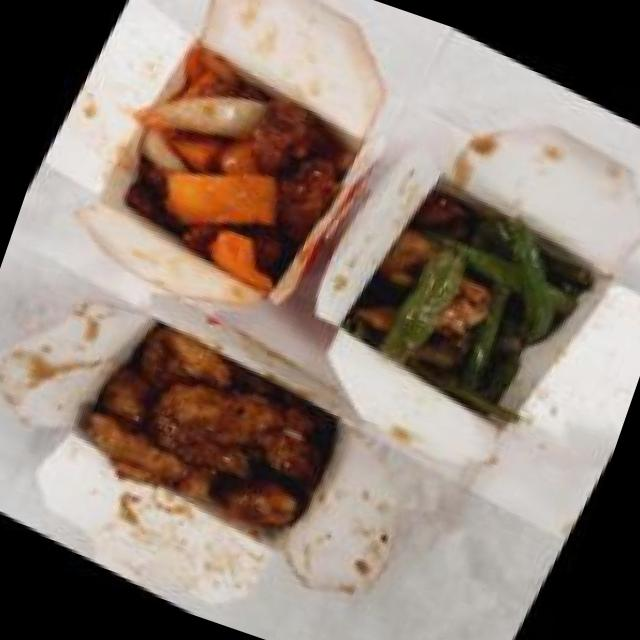Beijing Beef: (88, 30, 388, 319)
String Bean Chicken Breast: (322, 157, 620, 450)
The Original Orange Chicken: (55, 298, 367, 568)
